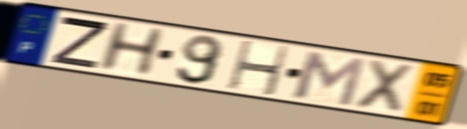9: (173, 33, 226, 87)
H: (94, 20, 169, 77), (226, 39, 292, 98)
M: (291, 48, 369, 109)
X: (350, 57, 419, 117)
Z: (49, 14, 111, 71)
